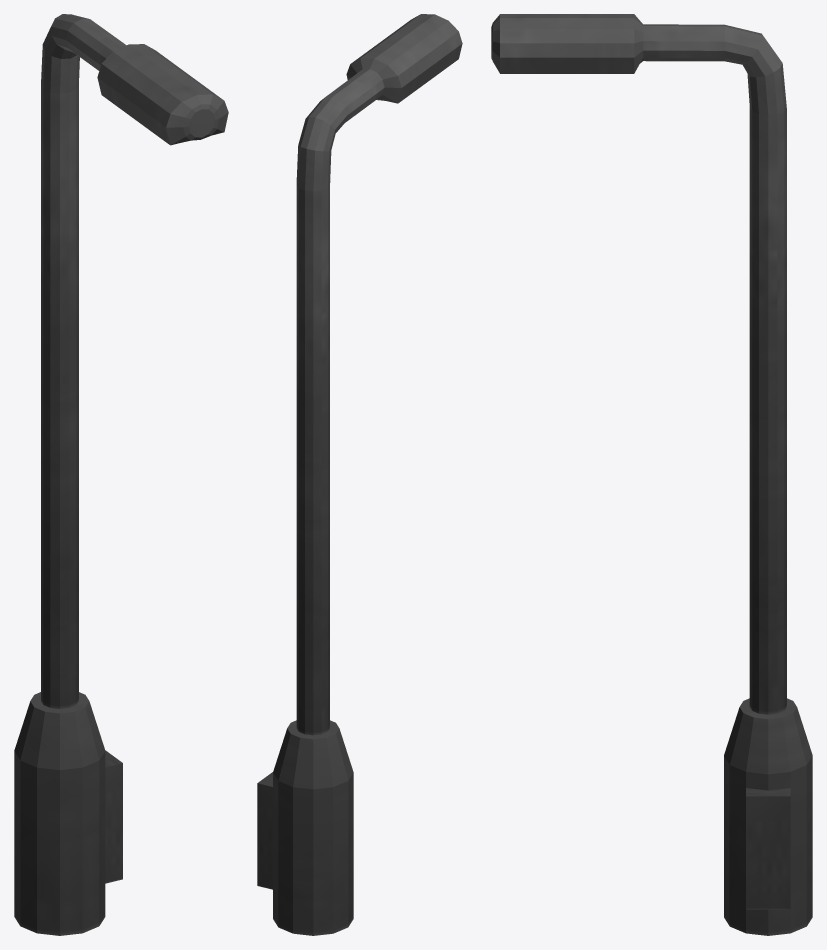
The model's file is Poste de luz.fbx.
3 renders of one model, left to right at view 1: azimuth 30°, elevation 25°; view 2: azimuth 150°, elevation 25°; view 3: azimuth 270°, elevation 25°, orthographic. The views are drawn at different scales.
Visible parts, largest first — view 1: Poste de Luz; view 2: Poste de Luz; view 3: Poste de Luz.
Part boxes in pixels (box(x1,y1,x2,y2)): Poste de Luz: box(14, 14, 228, 935); Poste de Luz: box(257, 14, 462, 935); Poste de Luz: box(491, 14, 812, 935).
Bounding box in the file's own units: 1.15 × 11.1 × 3.6.
